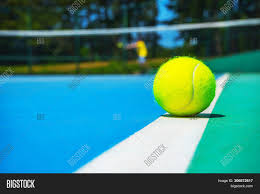tennis_ball: (152, 54, 216, 118)
